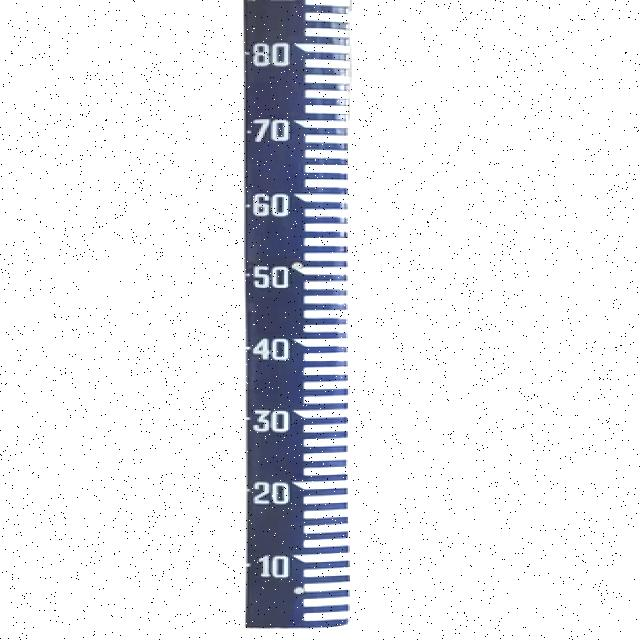10: (258, 552, 292, 578)
20: (254, 480, 289, 505)
30: (252, 406, 294, 434)
40: (252, 336, 290, 361)
50: (255, 265, 289, 290)
60: (250, 192, 290, 219)
70: (251, 117, 294, 144)
80: (250, 42, 292, 68)
staff: (242, 1, 348, 626)
